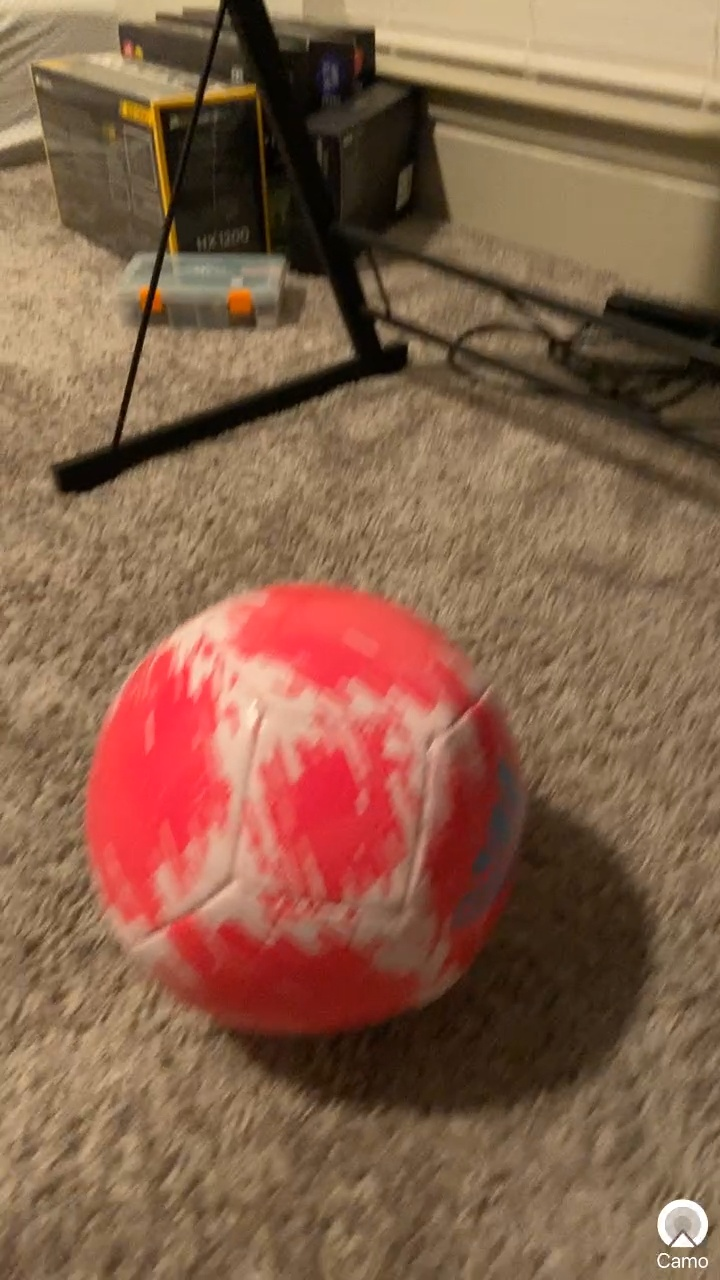Soccer_Ball: (53, 575, 536, 1057)
